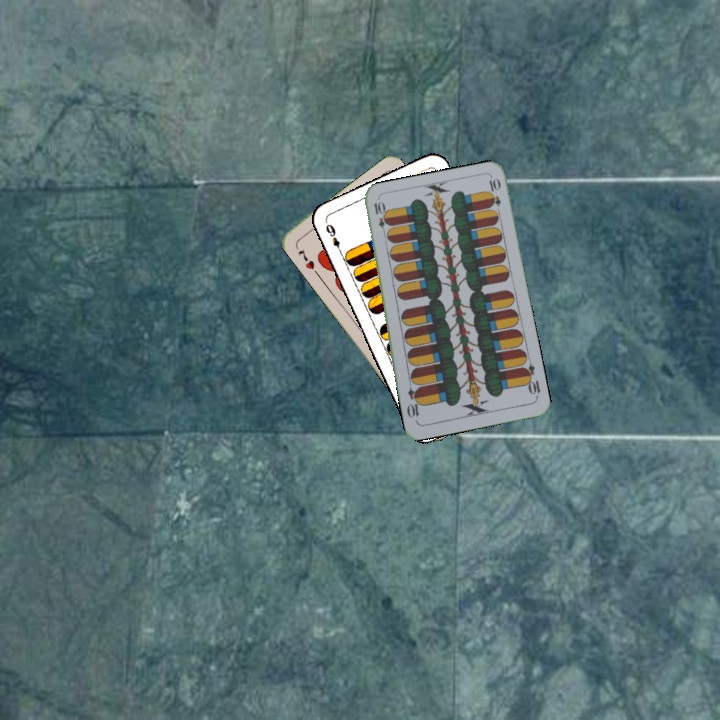E10: (519, 360, 543, 400), (370, 197, 390, 238)
E9: (321, 220, 345, 257)
H7: (294, 244, 317, 272)
